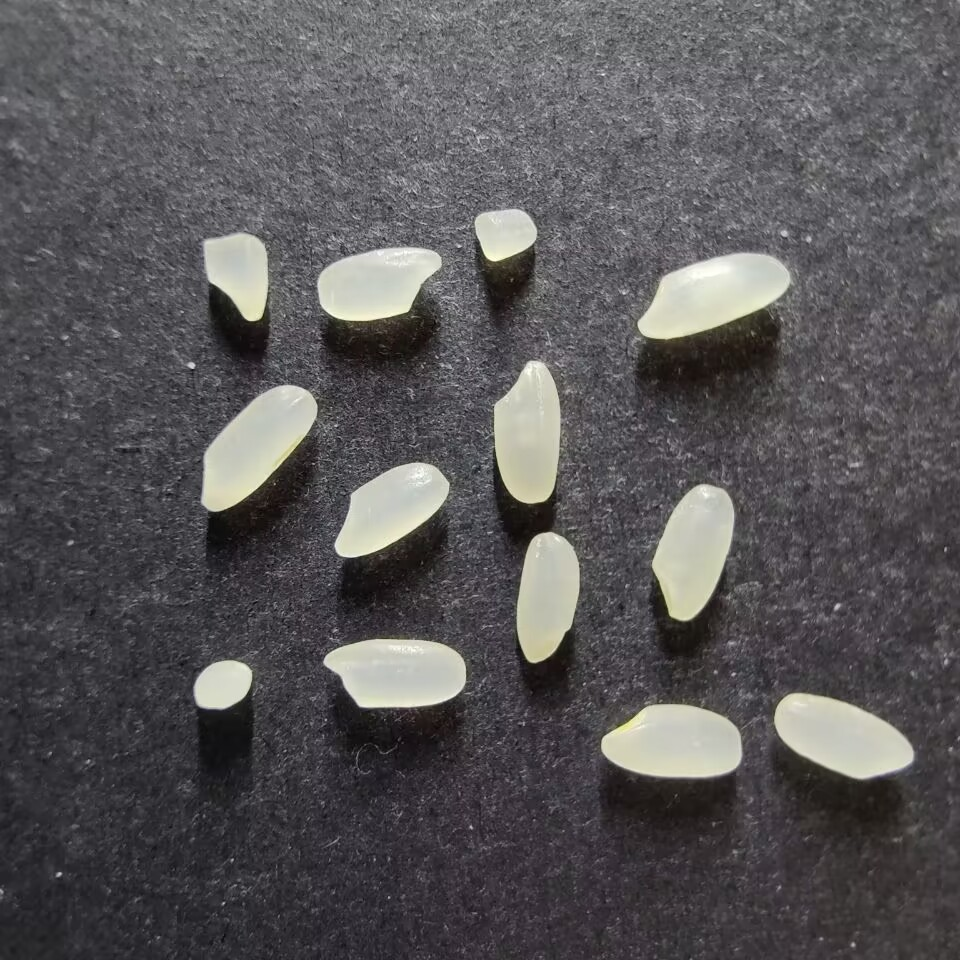broken: (202, 234, 269, 322), (474, 209, 538, 261), (192, 659, 252, 709)
rice: (200, 384, 318, 512), (636, 252, 790, 339), (773, 692, 914, 780), (650, 484, 735, 622), (333, 461, 449, 558), (600, 703, 742, 778), (322, 638, 467, 708), (492, 360, 560, 504), (317, 247, 441, 321), (515, 531, 580, 664)
